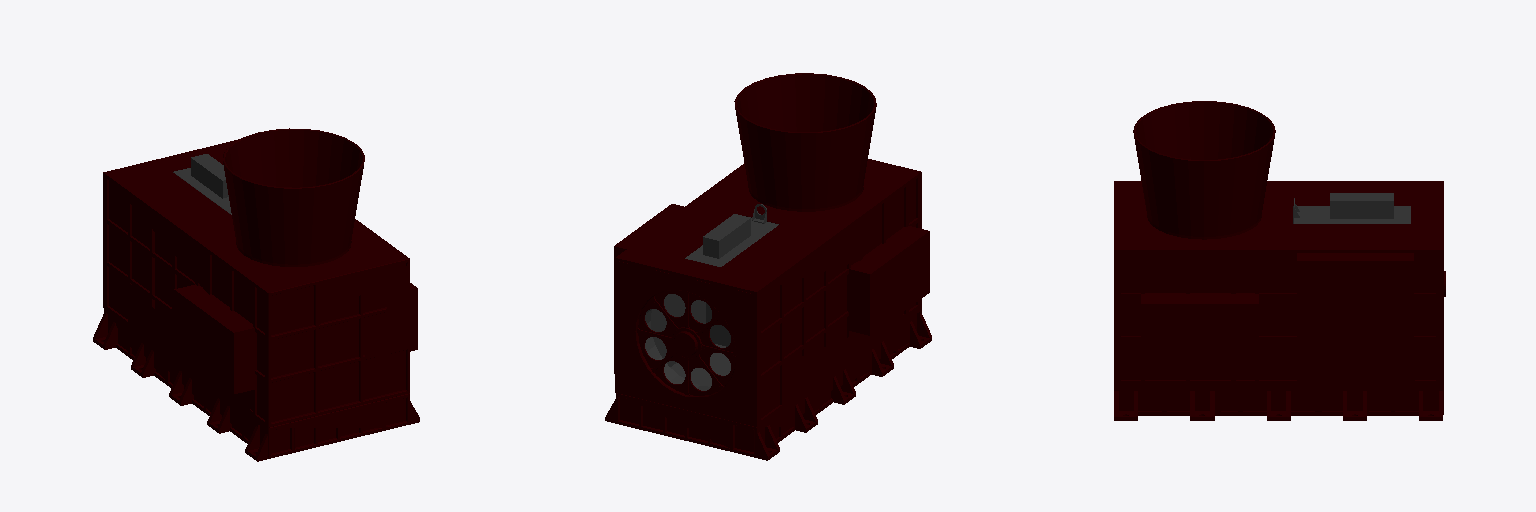
Rendered from DarkmatterInter.obj.
3 views of the same model, side by side, from view 1: azimuth 30°, elevation 25°; view 2: azimuth 150°, elevation 25°; view 3: azimuth 270°, elevation 25° (orthographic).
Parts seen in each view (by area): view 1: Box118, Circle534, Rectangle692, Box122, Box121, Rectangle677, Box114, Box123, Box113, Box115; view 2: Rectangle692, Circle534, Rectangle673, Box114, Box122, Box121, Rectangle677, Circle526, Box123, Box116, Box113, Box115 (+3 smaller); view 3: Rectangle692, Circle534, Rectangle691, Box120, Box122, Box114, Rectangle677, Box123, Box113, Box115, Box118.
Boxes of the visible parts, <box> form: Box118: <box>266,257,409,427</box>; Circle534: <box>223,128,364,266</box>; Rectangle692: <box>103,172,406,425</box>; Box122: <box>104,308,409,458</box>; Box121: <box>174,284,254,394</box>; Rectangle677: <box>184,216,404,290</box>; Box114: <box>107,139,238,227</box>; Box123: <box>93,314,419,461</box>; Box113: <box>191,154,228,198</box>; Box115: <box>173,168,231,214</box>; Rectangle692: <box>615,163,919,426</box>; Circle534: <box>734,73,876,211</box>; Rectangle673: <box>618,261,753,425</box>; Box114: <box>618,203,829,293</box>; Box122: <box>616,307,921,457</box>; Box121: <box>849,226,929,335</box>; Rectangle677: <box>695,161,916,235</box>; Circle526: <box>638,290,735,395</box>; Box123: <box>605,314,931,460</box>; Box116: <box>651,294,730,386</box>; Box113: <box>703,214,750,258</box>; Box115: <box>685,217,778,266</box>; Rectangle692: <box>1118,181,1443,384</box>; Circle534: <box>1133,101,1275,239</box>; Rectangle691: <box>1297,253,1413,388</box>; Box120: <box>1141,294,1258,365</box>; Box122: <box>1114,385,1443,415</box>; Box114: <box>1291,182,1443,247</box>; Rectangle677: <box>1118,182,1290,247</box>; Box123: <box>1114,391,1442,420</box>; Box113: <box>1330,193,1393,218</box>; Box115: <box>1293,206,1410,223</box>; Box118: <box>1114,181,1117,384</box>.
Bounding box in the file's own units: 55.38 × 71.95 × 86.65.